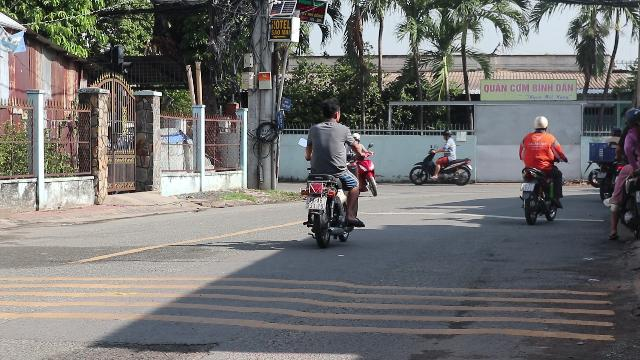helmet: (531, 115, 549, 132)
licenseplate: (306, 196, 326, 210), (522, 183, 534, 191)
motorcyclist: (298, 98, 366, 246), (516, 115, 564, 223)
nohelmet: (319, 98, 341, 122)
